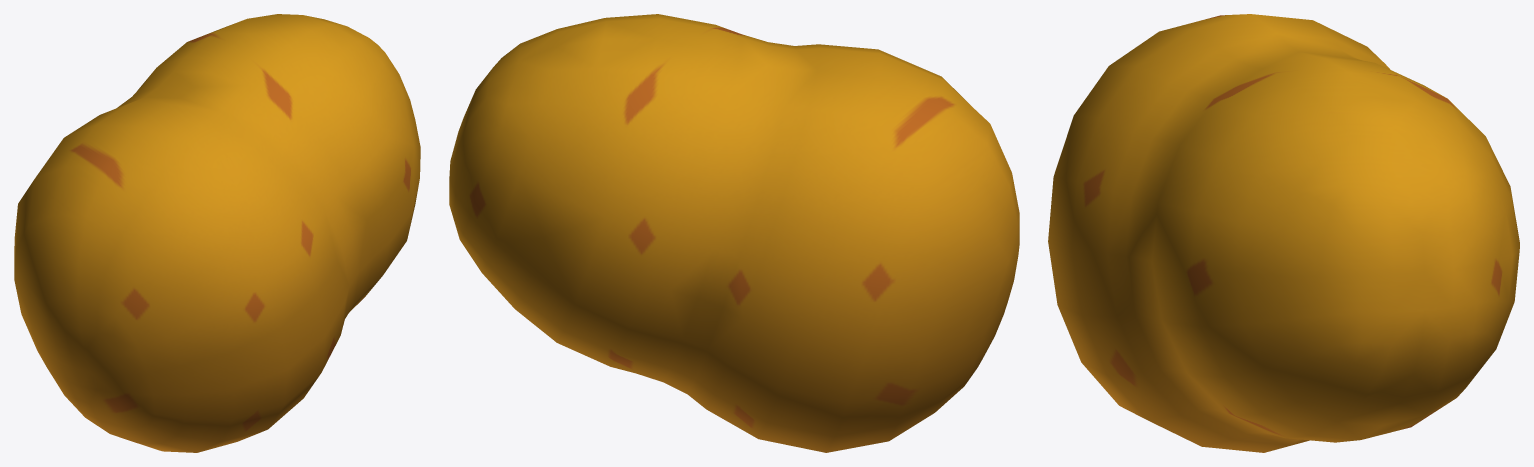
The model's file is Farm_Crop_Potato_01.fbx.
3 renders of one model, left to right at view 1: azimuth 30°, elevation 25°; view 2: azimuth 150°, elevation 25°; view 3: azimuth 270°, elevation 25°, orthographic. The views are drawn at different scales.
Visible parts, largest first — view 1: Farm_Crop_Potato_01; view 2: Farm_Crop_Potato_01; view 3: Farm_Crop_Potato_01.
Part boxes in pixels (x1=…): Farm_Crop_Potato_01: x1=14, y1=14, x2=420, y2=452; Farm_Crop_Potato_01: x1=449, y1=14, x2=1019, y2=452; Farm_Crop_Potato_01: x1=1048, y1=14, x2=1519, y2=452.
Bounding box in the file's own units: 58.37 × 46.4 × 46.66.
